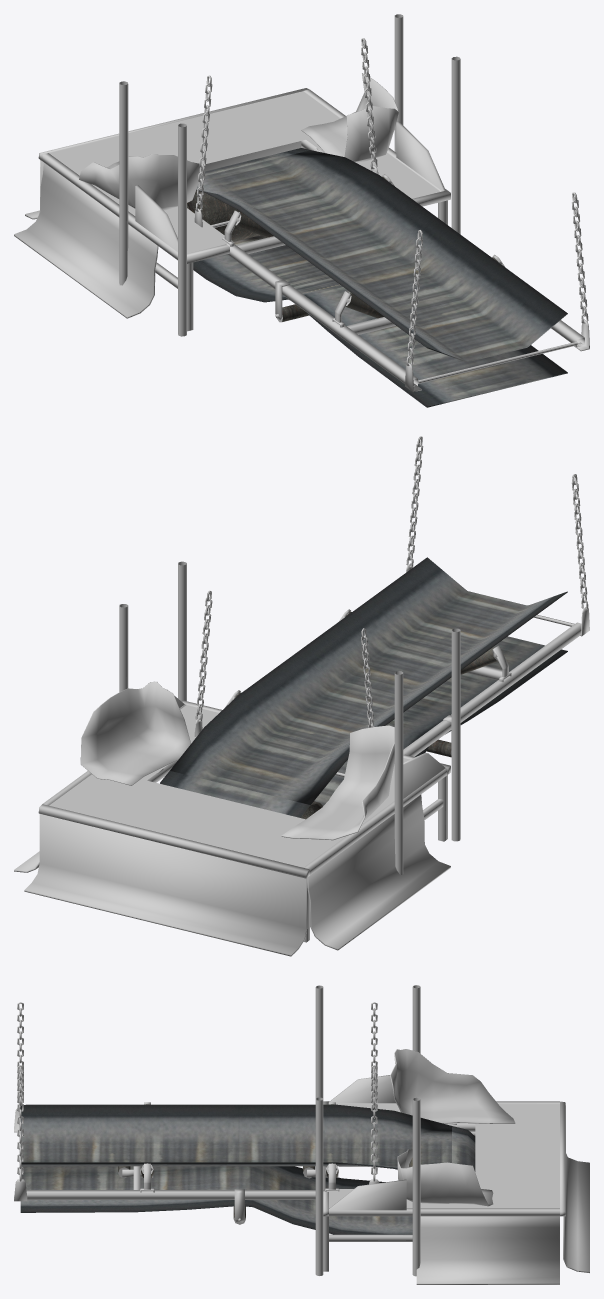
The model's file is Belt_Start_NIOSH.FBX.
3 views of the same model, one above another, from view 1: azimuth 30°, elevation 25°; view 2: azimuth 150°, elevation 25°; view 3: azimuth 270°, elevation 25° (orthographic). The views are drawn at different scales.
Visible parts, largest first — view 1: Mine_Conveyor_Start_Mesh; view 2: Mine_Conveyor_Start_Mesh; view 3: Mine_Conveyor_Start_Mesh.
Boxes of the visible parts, box(x1,y1,x2,y2) form: Mine_Conveyor_Start_Mesh: box(14, 14, 589, 407); Mine_Conveyor_Start_Mesh: box(14, 436, 589, 956); Mine_Conveyor_Start_Mesh: box(14, 985, 589, 1284).
Bounding box in the file's own units: 407 × 265 × 748.
